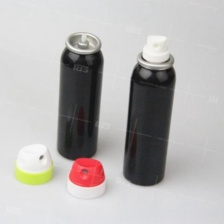aerosol_cans: (120, 32, 180, 189), (52, 28, 107, 163)
